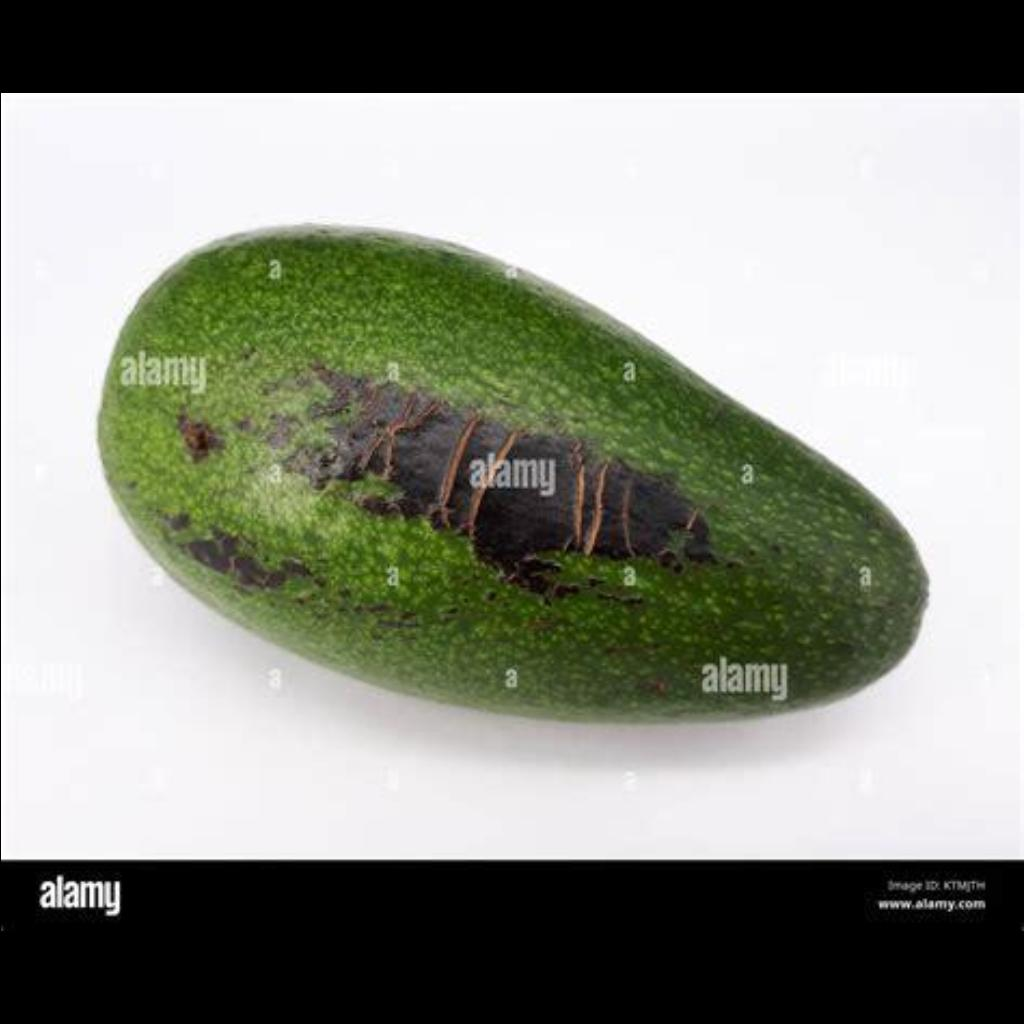antracnosis_fruto: (149, 290, 741, 681)
